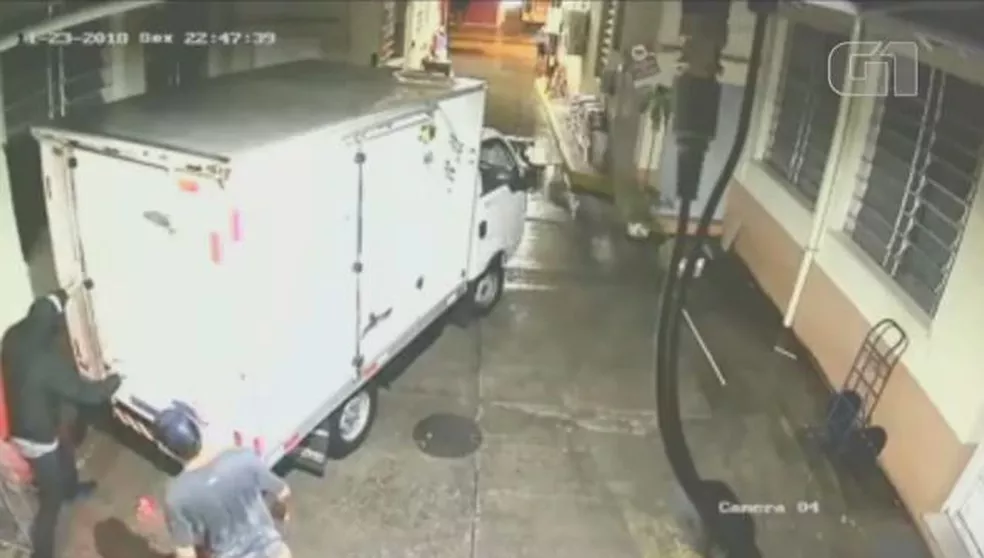Humano: (4, 285, 120, 551), (145, 387, 299, 558)
